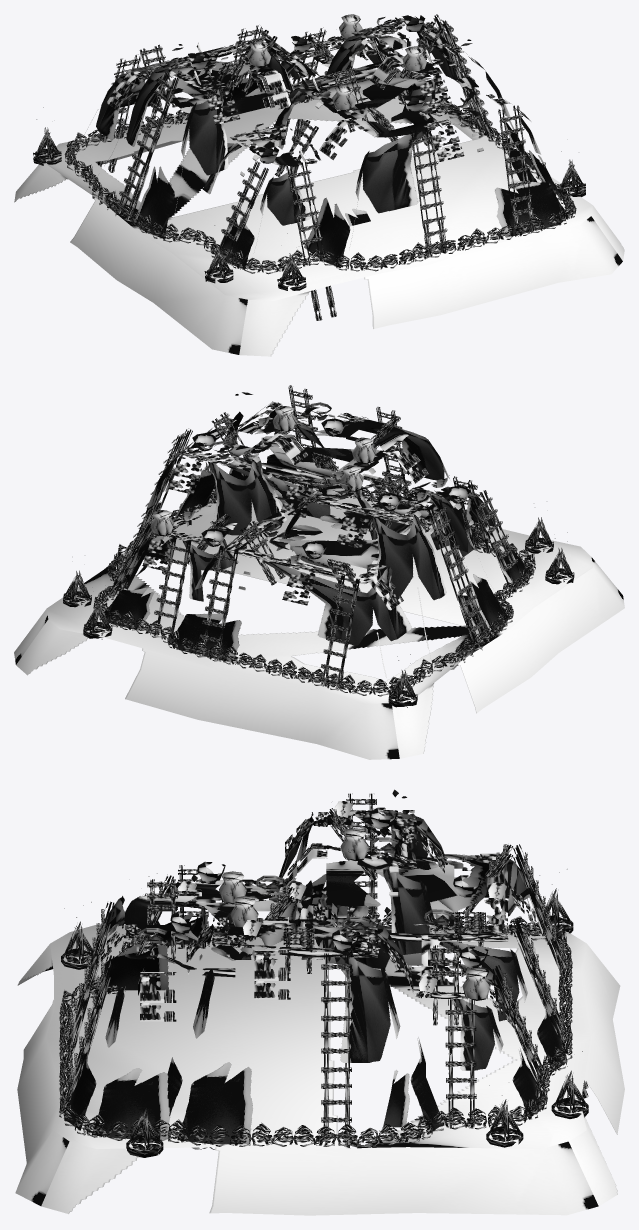
3 views of the same model, one above another, from view 1: azimuth 30°, elevation 25°; view 2: azimuth 150°, elevation 25°; view 3: azimuth 270°, elevation 25° (orthographic). The views are drawn at different scales.
Parts seen in each view (by area): view 1: cc; view 2: cc; view 3: cc.
Boxes of the visible parts, <box> form: cc: <box>14,14,624,356</box>; cc: <box>14,385,624,759</box>; cc: <box>15,789,624,1215</box>.
Size of the model in its own units: 26.77 by 27.39 by 11.74.
